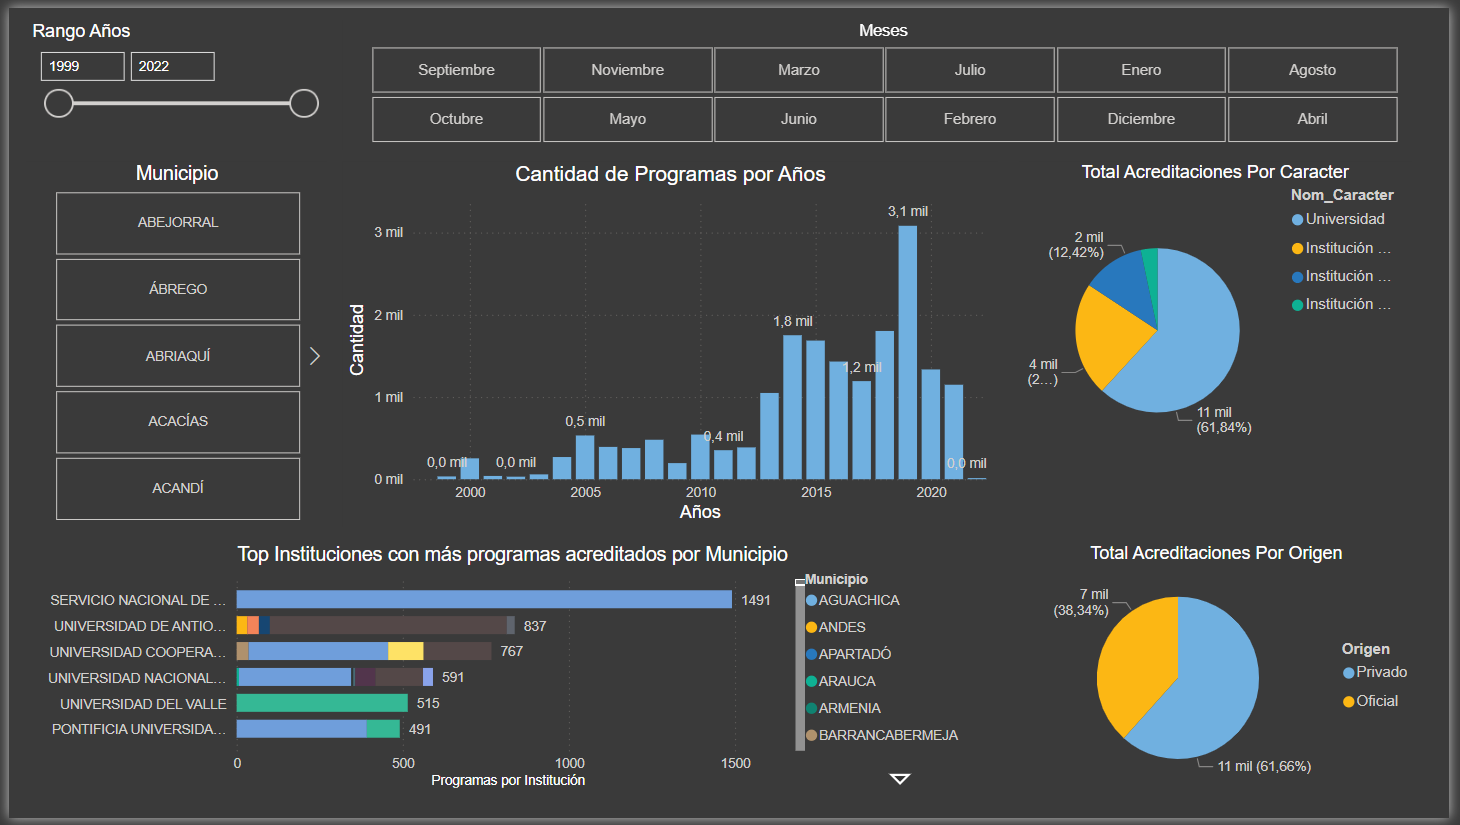

What the dashboard file says about the page in this screenshot:
{"tool":"powerbi","page":{"name":"Años y Meses: ","canvas":[1280,720],"ordinal":2},"visuals":[{"type":"slicer","title":"Rango Años","fields":{"Values":["DIM_Fechas.Annio"]},"box":[15,11.2,267.5,115],"z":0},{"type":"slicer","title":"Meses","fields":{"Values":["DIM_Meses.NomMes"]},"box":[296.2,11.2,961.2,115],"z":1000},{"type":"slicer","title":"Municipio","fields":{"Values":["dim_municipios.nom_mpio"]},"box":[15,136.2,267.5,325],"z":2000},{"type":"columnChart","title":"Cantidad de Programas por Años","fields":{"Category":["DIM_Fechas.Annio"],"Y":["CountNonNull(FAC_programas.id)"]},"box":[296.2,136.2,582.5,325],"z":3000},{"type":"barChart","title":"Top Instituciones con más programas acreditados por Municipio","fields":{"Category":["dim_institucion.nombreinstitucion"],"Y":["FAC_programas.Programas por Institución"],"Series":["dim_municipios.nom_mpio"]},"box":[15,475,863.8,222.5],"z":4000},{"type":"pieChart","title":"Total Acreditaciones Por Origen","fields":{"Category":["dim_origen.nombre_origen"],"Y":["FAC_programas.Total Acreditados"]},"box":[888.8,475,368.8,222.5],"z":5000},{"type":"pieChart","title":"Total Acreditaciones Por Caracter","fields":{"Category":["dim_caracter.nombre_caracter"],"Y":["FAC_programas.Total Acreditados"]},"box":[897.5,136.2,348.8,282.5],"z":5001}]}

Visuals, with their boxes in screenshot pixels (x1, y1, x2, y2), scaled from the page's 1280x720 canvas onto the 1460x825 screenshot:
"Rango Años" slicer: detection(17, 13, 322, 145)
"Meses" slicer: detection(338, 13, 1434, 145)
"Municipio" slicer: detection(17, 156, 322, 528)
"Cantidad de Programas por Años" columnChart: detection(338, 156, 1002, 528)
"Top Instituciones con más programas acreditados por Municipio" barChart: detection(17, 544, 1002, 799)
"Total Acreditaciones Por Origen" pieChart: detection(1014, 544, 1434, 799)
"Total Acreditaciones Por Caracter" pieChart: detection(1024, 156, 1422, 480)
